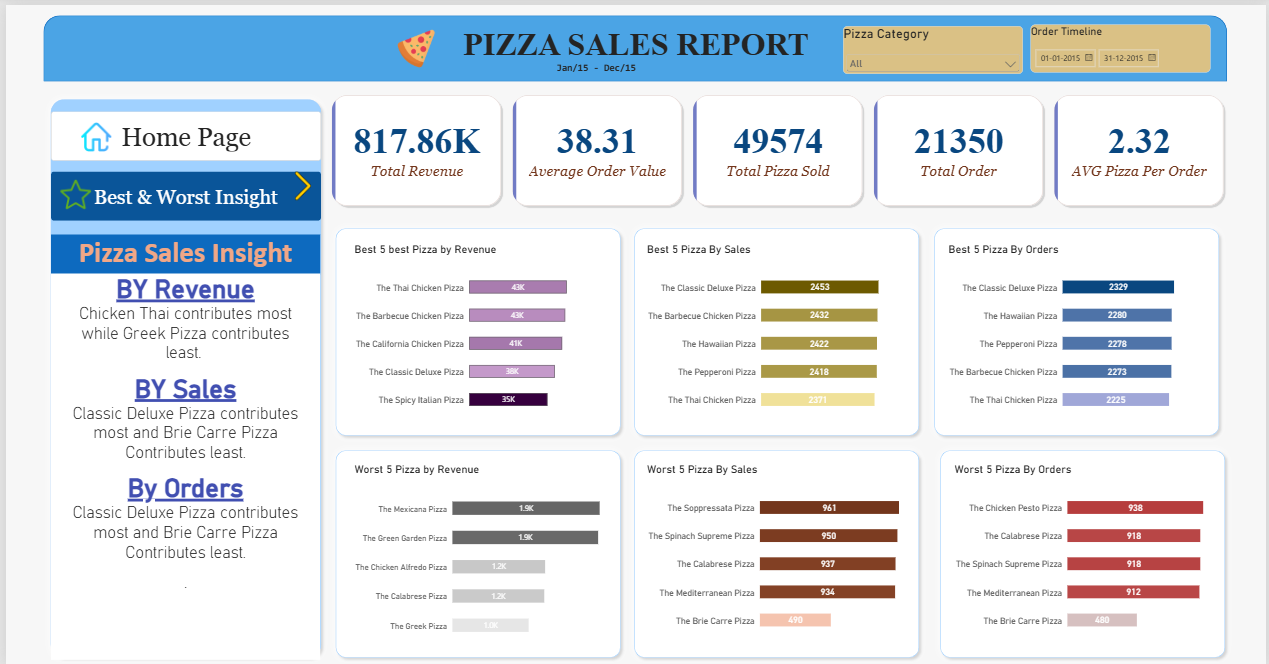

The page's visual inventory and layout, read from the dashboard file:
{"tool":"powerbi","page":{"name":"Best & Worst Insight","canvas":[2100,1100],"ordinal":1},"visuals":[{"type":"cardVisual","fields":{"Data":["pizza_sales pizza_sales.Total Revenue","pizza_sales pizza_sales.Average Order Value","pizza_sales pizza_sales.Total Pizza Sold","pizza_sales pizza_sales.Total Order","pizza_sales pizza_sales.AVG Pizza Per Order"]},"box":[537.5,145,1497.5,195],"z":0},{"type":"shape","box":[62.5,17.5,1972.5,110],"z":1000},{"type":"textbox","box":[667.5,35,765,92.5],"z":2000},{"type":"textbox","box":[917.5,95,133.3,20],"z":3000},{"type":"image","box":[600,40,167.5,65],"z":4000},{"type":"shape","box":[537.5,360,499,370],"z":5000},{"type":"shape","box":[62.5,145,475,955],"z":15000},{"type":"textbox","box":[74.3,382.9,448.6,65.7],"z":16000},{"type":"textbox","box":[75,447.1,448.5,644.1],"z":17000},{"type":"slicer","title":"Pizza Category","fields":{"Values":["pizza_sales pizza_sales.pizza_category"]},"box":[1395,35,300,80],"z":18000},{"type":"slicer","title":"Order Timeline","fields":{"Values":["pizza_sales pizza_sales.order_date"]},"box":[1707.5,32.5,300,80],"z":19000},{"type":"shape","box":[537.5,730,499,370],"z":19001},{"type":"shape","box":[1035,360,499,370],"z":19002},{"type":"shape","box":[1535,360,499,370],"z":19003},{"type":"shape","box":[1545,730,499,370],"z":19004},{"type":"shape","box":[1035,730,499,370],"z":19005},{"type":"barChart","title":"Best 5 best Pizza by Revenue","fields":{"Category":["pizza_sales pizza_sales.pizza_name"],"Y":["pizza_sales pizza_sales.Total Revenue"]},"box":[565,382.5,447.5,322.5],"z":19006},{"type":"barChart","title":"Worst 5 Pizza by Revenue","fields":{"Category":["pizza_sales pizza_sales.pizza_name"],"Y":["pizza_sales pizza_sales.Total Revenue"]},"box":[563.8,748.8,447.5,332.5],"z":19007},{"type":"barChart","title":"Best 5 Pizza By Sales","fields":{"Category":["pizza_sales pizza_sales.pizza_name"],"Y":["pizza_sales pizza_sales.Total Pizza Sold"]},"box":[1051.2,382.5,461.2,322.5],"z":19008},{"type":"barChart","title":"Worst 5 Pizza By Sales","fields":{"Category":["pizza_sales pizza_sales.pizza_name"],"Y":["pizza_sales pizza_sales.Total Pizza Sold"]},"box":[1051.2,748.8,461.2,322.5],"z":19009},{"type":"barChart","title":"Best 5 Pizza By Orders","fields":{"Category":["pizza_sales pizza_sales.pizza_name"],"Y":["pizza_sales pizza_sales.Total Order"]},"box":[1553.8,382.5,461.2,322.5],"z":19010},{"type":"barChart","title":"Worst 5 Pizza By Orders","fields":{"Category":["pizza_sales pizza_sales.pizza_name"],"Y":["pizza_sales pizza_sales.Total Order"]},"box":[1565,748.8,461.2,322.5],"z":19011},{"type":"pageNavigator","box":[75,177.5,450,82.5],"z":19012},{"type":"pageNavigator","box":[75,277.5,450,82.5],"z":19013},{"type":"image","box":[464.6,276.9,60,47.7],"z":19014},{"type":"image","box":[117.5,195,65.9,50],"z":19015},{"type":"image","box":[82.5,290,67.1,51.4],"z":19016}]}

Visuals, with their boxes in screenshot pixels (x1, y1, x2, y2), scaled from the page's 2100x1100 canvas onto the 1269x664 screenshot:
cardVisual - pizza_sales pizza_sales.Total Revenue x pizza_sales pizza_sales.Average Order Value: [left=325, top=88, right=1230, bottom=205]
shape: [left=38, top=11, right=1230, bottom=77]
textbox: [left=403, top=21, right=866, bottom=77]
textbox: [left=554, top=57, right=635, bottom=69]
image: [left=363, top=24, right=464, bottom=63]
shape: [left=325, top=217, right=626, bottom=441]
shape: [left=38, top=88, right=325, bottom=663]
textbox: [left=45, top=231, right=316, bottom=271]
textbox: [left=45, top=270, right=316, bottom=659]
"Pizza Category" slicer: [left=843, top=21, right=1024, bottom=69]
"Order Timeline" slicer: [left=1032, top=20, right=1213, bottom=68]
shape: [left=325, top=441, right=626, bottom=663]
shape: [left=625, top=217, right=927, bottom=441]
shape: [left=928, top=217, right=1229, bottom=441]
shape: [left=934, top=441, right=1235, bottom=663]
shape: [left=625, top=441, right=927, bottom=663]
"Best 5 best Pizza by Revenue" barChart: [left=341, top=231, right=612, bottom=426]
"Worst 5 Pizza by Revenue" barChart: [left=341, top=452, right=611, bottom=653]
"Best 5 Pizza By Sales" barChart: [left=635, top=231, right=914, bottom=426]
"Worst 5 Pizza By Sales" barChart: [left=635, top=452, right=914, bottom=647]
"Best 5 Pizza By Orders" barChart: [left=939, top=231, right=1218, bottom=426]
"Worst 5 Pizza By Orders" barChart: [left=946, top=452, right=1224, bottom=647]
pageNavigator: [left=45, top=107, right=317, bottom=157]
pageNavigator: [left=45, top=168, right=317, bottom=217]
image: [left=281, top=167, right=317, bottom=196]
image: [left=71, top=118, right=111, bottom=148]
image: [left=50, top=175, right=90, bottom=206]
